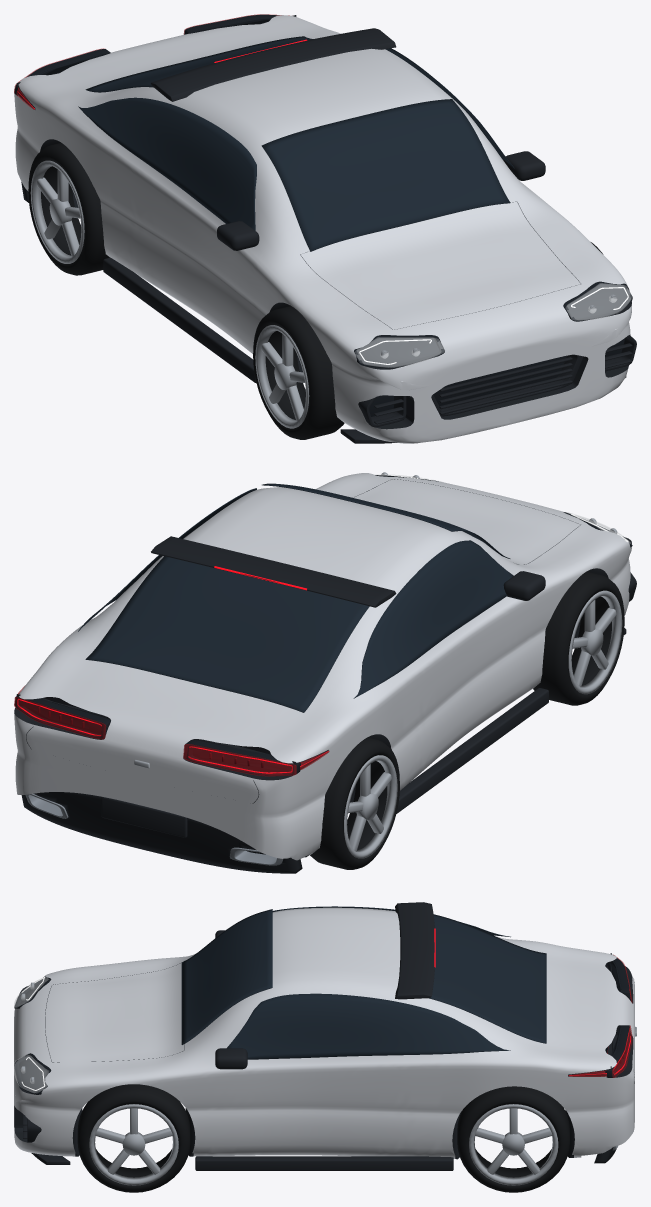
File: car.glb
3 views of the same model, one above another, from view 1: azimuth 30°, elevation 25°; view 2: azimuth 150°, elevation 25°; view 3: azimuth 270°, elevation 25° (orthographic). The views are drawn at different scales.
Parts seen in each view (by area): view 1: Body, Cabin_Glass, Wheel_FL, Wheel_RL, Roof_Spoiler, Trim, Headlight_L, Headlight_R, Headlamp_Back_L, Grille, Headlamp_Back_R, Front_Intake_Duct (+4 smaller); view 2: Body, Cabin_Glass, Wheel_FL, Wheel_RL, Bumper_Rear, Roof_Spoiler, Trim, Plate_Recess, Taillight_L, Taillight_R, Taillamp_Frame_L, Taillamp_Frame_R (+4 smaller); view 3: Body, Cabin_Glass, Wheel_FR, Wheel_RR, Trim, Roof_Spoiler, Headlight_R, Mirror_R, Headlamp_Back_R, Taillamp_Frame_R.
Part boxes in pixels (box(x1,y1,x2,y2)): Body: box(14, 15, 631, 443); Cabin_Glass: box(78, 36, 514, 251); Wheel_FL: box(253, 306, 344, 439); Wheel_RL: box(28, 142, 109, 275); Roof_Spoiler: box(151, 28, 396, 101); Trim: box(103, 257, 256, 383); Headlight_L: box(355, 337, 445, 367); Headlight_R: box(566, 283, 631, 320); Headlamp_Back_L: box(356, 337, 438, 365); Grille: box(433, 355, 566, 406); Headlamp_Back_R: box(567, 283, 628, 318); Front_Intake_Duct: box(431, 354, 583, 416); Body: box(14, 473, 631, 860); Cabin_Glass: box(78, 483, 513, 712); Wheel_FL: box(533, 571, 624, 705); Wheel_RL: box(310, 737, 399, 869); Bumper_Rear: box(21, 792, 302, 873); Roof_Spoiler: box(151, 536, 396, 607); Trim: box(396, 688, 548, 813); Plate_Recess: box(101, 797, 187, 837); Taillight_L: box(183, 744, 296, 776); Taillight_R: box(14, 697, 106, 739); Taillamp_Frame_L: box(184, 740, 300, 775); Taillamp_Frame_R: box(15, 696, 110, 738); Body: box(14, 907, 634, 1159); Cabin_Glass: box(181, 906, 546, 1059); Wheel_FR: box(77, 1084, 190, 1192); Wheel_RR: box(457, 1086, 569, 1192); Trim: box(195, 1156, 453, 1170); Roof_Spoiler: box(395, 902, 434, 999); Headlight_R: box(14, 1055, 48, 1093); Mirror_R: box(215, 1048, 247, 1069); Headlamp_Back_R: box(19, 1056, 48, 1094); Taillamp_Frame_R: box(605, 1025, 631, 1077).
Size of the model in its own units: 2.18 by 1.48 by 4.41.
